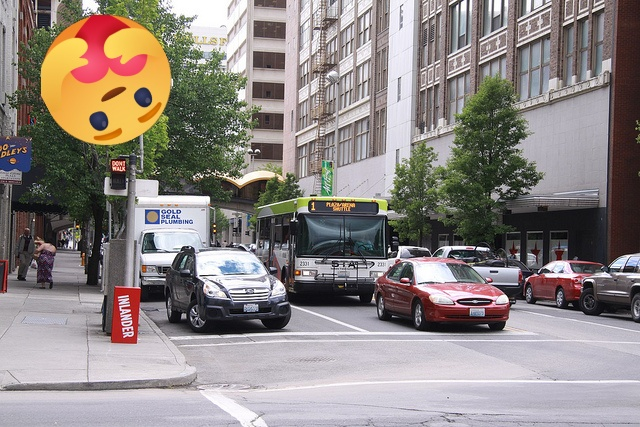care: (41, 15, 171, 145)
